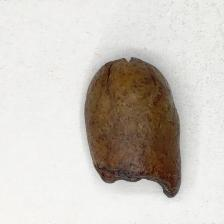NG: (100, 165, 178, 199)
